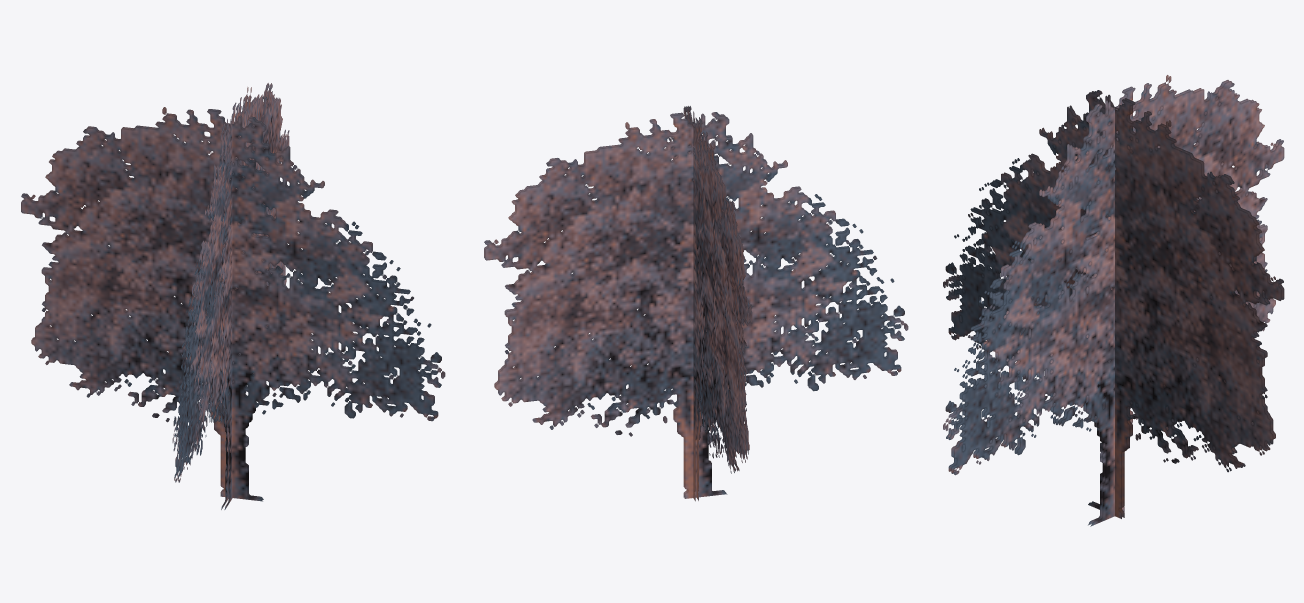
The model's file is tree067.fbx.
3 renders of one model, left to right at view 1: azimuth 30°, elevation 25°; view 2: azimuth 150°, elevation 25°; view 3: azimuth 270°, elevation 25°, orthographic. The views are drawn at different scales.
Parts seen in each view (by area): view 1: tree067; view 2: tree067; view 3: tree067.
Boxes of the visible parts, x1=… form: tree067: x1=21, y1=83, x2=445, y2=509; tree067: x1=484, y1=106, x2=908, y2=501; tree067: x1=943, y1=75, x2=1284, y2=526.
Bounding box in the file's own units: 241 × 335 × 241.
1 material, 1 textured.
